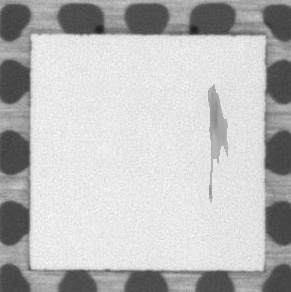DIE_INK: (205, 84, 229, 203)
